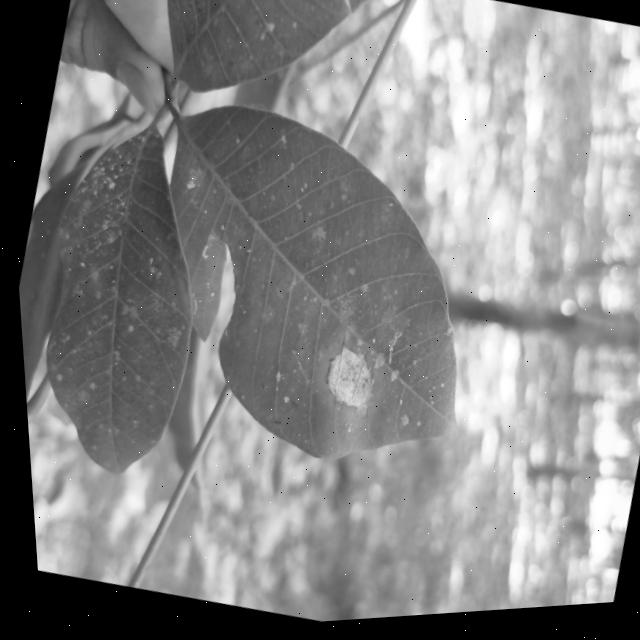Leaf-Blight: (313, 345, 376, 420)
